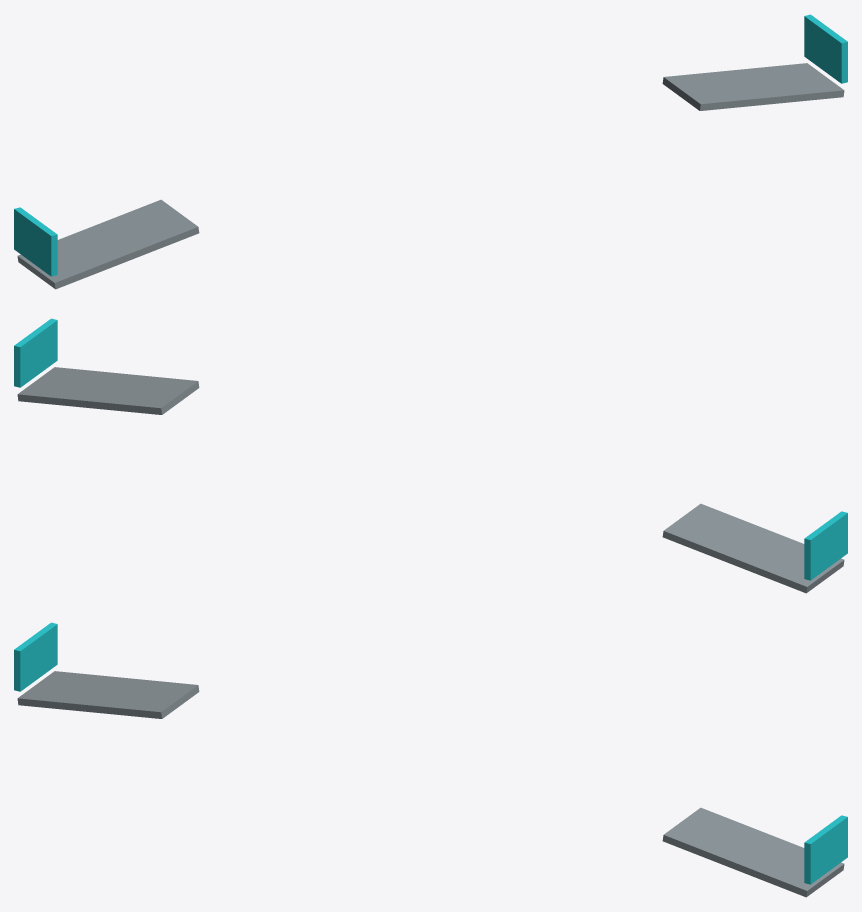
The model's file is glide_wings.glb.
3 views of the same model, one above another, from view 1: azimuth 30°, elevation 25°; view 2: azimuth 150°, elevation 25°; view 3: azimuth 330°, elevation 25° (orthographic).
Parts seen in each view (by area): view 1: Ext1, Ext3, Tip1, Tip3; view 2: Ext1, Ext3, Tip1, Tip3; view 3: Ext3, Ext1, Tip1, Tip3.
Part boxes in pixels (<box>): Ext1: <box>17,199,199,289</box>; Ext3: <box>662,63,844,110</box>; Tip1: <box>14,207,57,276</box>; Tip3: <box>804,14,847,83</box>; Ext1: <box>662,503,844,593</box>; Ext3: <box>17,367,199,414</box>; Tip1: <box>804,511,847,580</box>; Tip3: <box>14,318,57,387</box>; Ext3: <box>662,807,844,897</box>; Ext1: <box>17,671,199,718</box>; Tip1: <box>14,622,57,691</box>; Tip3: <box>804,815,847,884</box>.
Bounding box in the file's own units: 4.94 × 0.3224 × 0.4.
